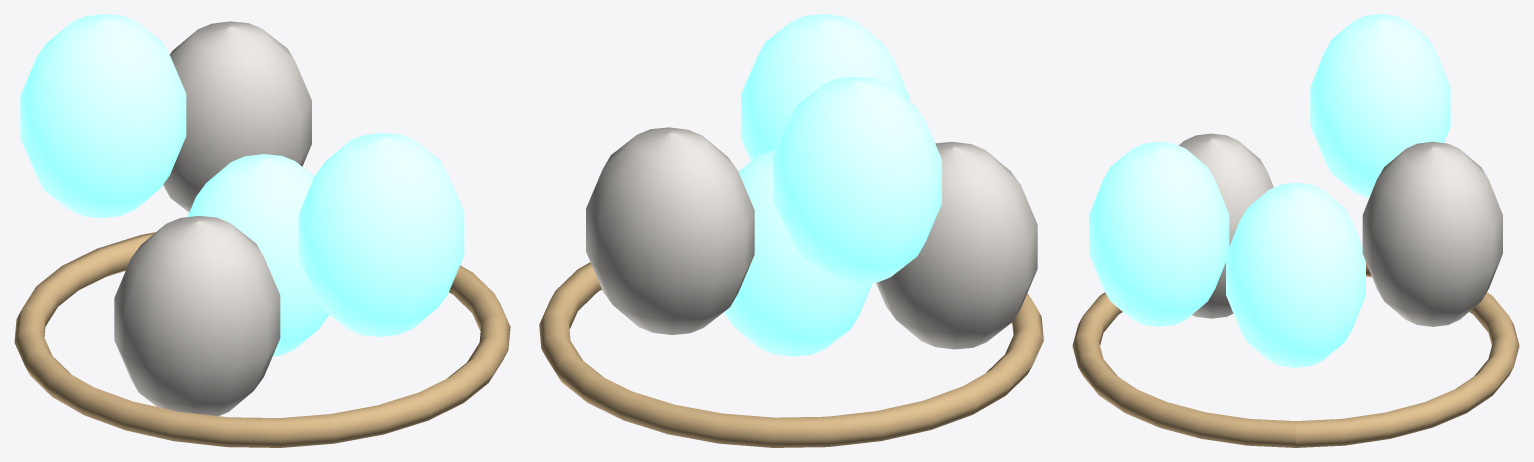
File: pick_dew_pearls.glb
3 views of the same model, side by side, from view 1: azimuth 30°, elevation 25°; view 2: azimuth 150°, elevation 25°; view 3: azimuth 270°, elevation 25° (orthographic). The views are drawn at different scales.
Parts seen in each view (by area): view 1: PICK_dew_pearls_pearl_4, PICK_dew_pearls_pearl_2, PICK_dew_pearls_pearl_3, PICK_dew_pearls_pearl_foot, PICK_dew_pearls_pearl_1, PICK_dew_pearls_pearl_0; view 2: PICK_dew_pearls_pearl_1, PICK_dew_pearls_pearl_2, PICK_dew_pearls_pearl_3, PICK_dew_pearls_pearl_foot, PICK_dew_pearls_pearl_0, PICK_dew_pearls_pearl_4; view 3: PICK_dew_pearls_pearl_1, PICK_dew_pearls_pearl_4, PICK_dew_pearls_pearl_0, PICK_dew_pearls_pearl_2, PICK_dew_pearls_pearl_foot, PICK_dew_pearls_pearl_3.
Part boxes in pixels (x1=…): PICK_dew_pearls_pearl_4: x1=298, y1=133, x2=464, y2=336; PICK_dew_pearls_pearl_2: x1=20, y1=14, x2=186, y2=218; PICK_dew_pearls_pearl_3: x1=114, y1=216, x2=280, y2=415; PICK_dew_pearls_pearl_foot: x1=14, y1=232, x2=510, y2=447; PICK_dew_pearls_pearl_1: x1=163, y1=21, x2=311, y2=212; PICK_dew_pearls_pearl_0: x1=187, y1=154, x2=328, y2=356; PICK_dew_pearls_pearl_1: x1=586, y1=127, x2=754, y2=334; PICK_dew_pearls_pearl_2: x1=773, y1=76, x2=941, y2=284; PICK_dew_pearls_pearl_3: x1=876, y1=141, x2=1037, y2=349; PICK_dew_pearls_pearl_foot: x1=539, y1=262, x2=1043, y2=447; PICK_dew_pearls_pearl_0: x1=723, y1=150, x2=872, y2=356; PICK_dew_pearls_pearl_4: x1=741, y1=14, x2=909, y2=161; PICK_dew_pearls_pearl_1: x1=1362, y1=141, x2=1502, y2=326; PICK_dew_pearls_pearl_4: x1=1089, y1=141, x2=1229, y2=326; PICK_dew_pearls_pearl_0: x1=1226, y1=182, x2=1365, y2=367; PICK_dew_pearls_pearl_2: x1=1310, y1=14, x2=1450, y2=197; PICK_dew_pearls_pearl_foot: x1=1072, y1=262, x2=1519, y2=447; PICK_dew_pearls_pearl_3: x1=1179, y1=133, x2=1273, y2=318.
Bounding box in the file's own units: 0.746 × 0.54 × 0.746.
